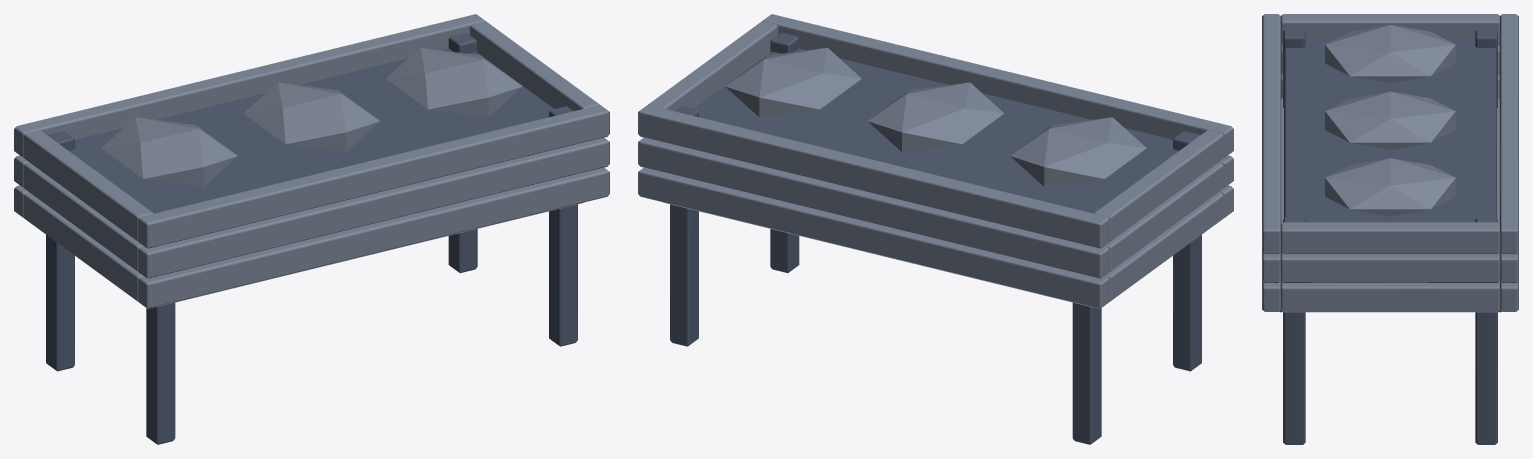
File: 高架花床-lite.glb
3 renders of one model, left to right at view 1: azimuth 30°, elevation 25°; view 2: azimuth 150°, elevation 25°; view 3: azimuth 270°, elevation 25°, orthographic. The views are drawn at different scales.
Visible parts, largest first — view 1: garden-raised-bed; view 2: garden-raised-bed; view 3: garden-raised-bed.
Part boxes in pixels (box(x1,y1,x2,y2)): garden-raised-bed: box(14, 14, 609, 444); garden-raised-bed: box(638, 14, 1233, 444); garden-raised-bed: box(1262, 14, 1518, 444).
Size of the model in its own units: 1.5 by 0.78 by 0.75.
